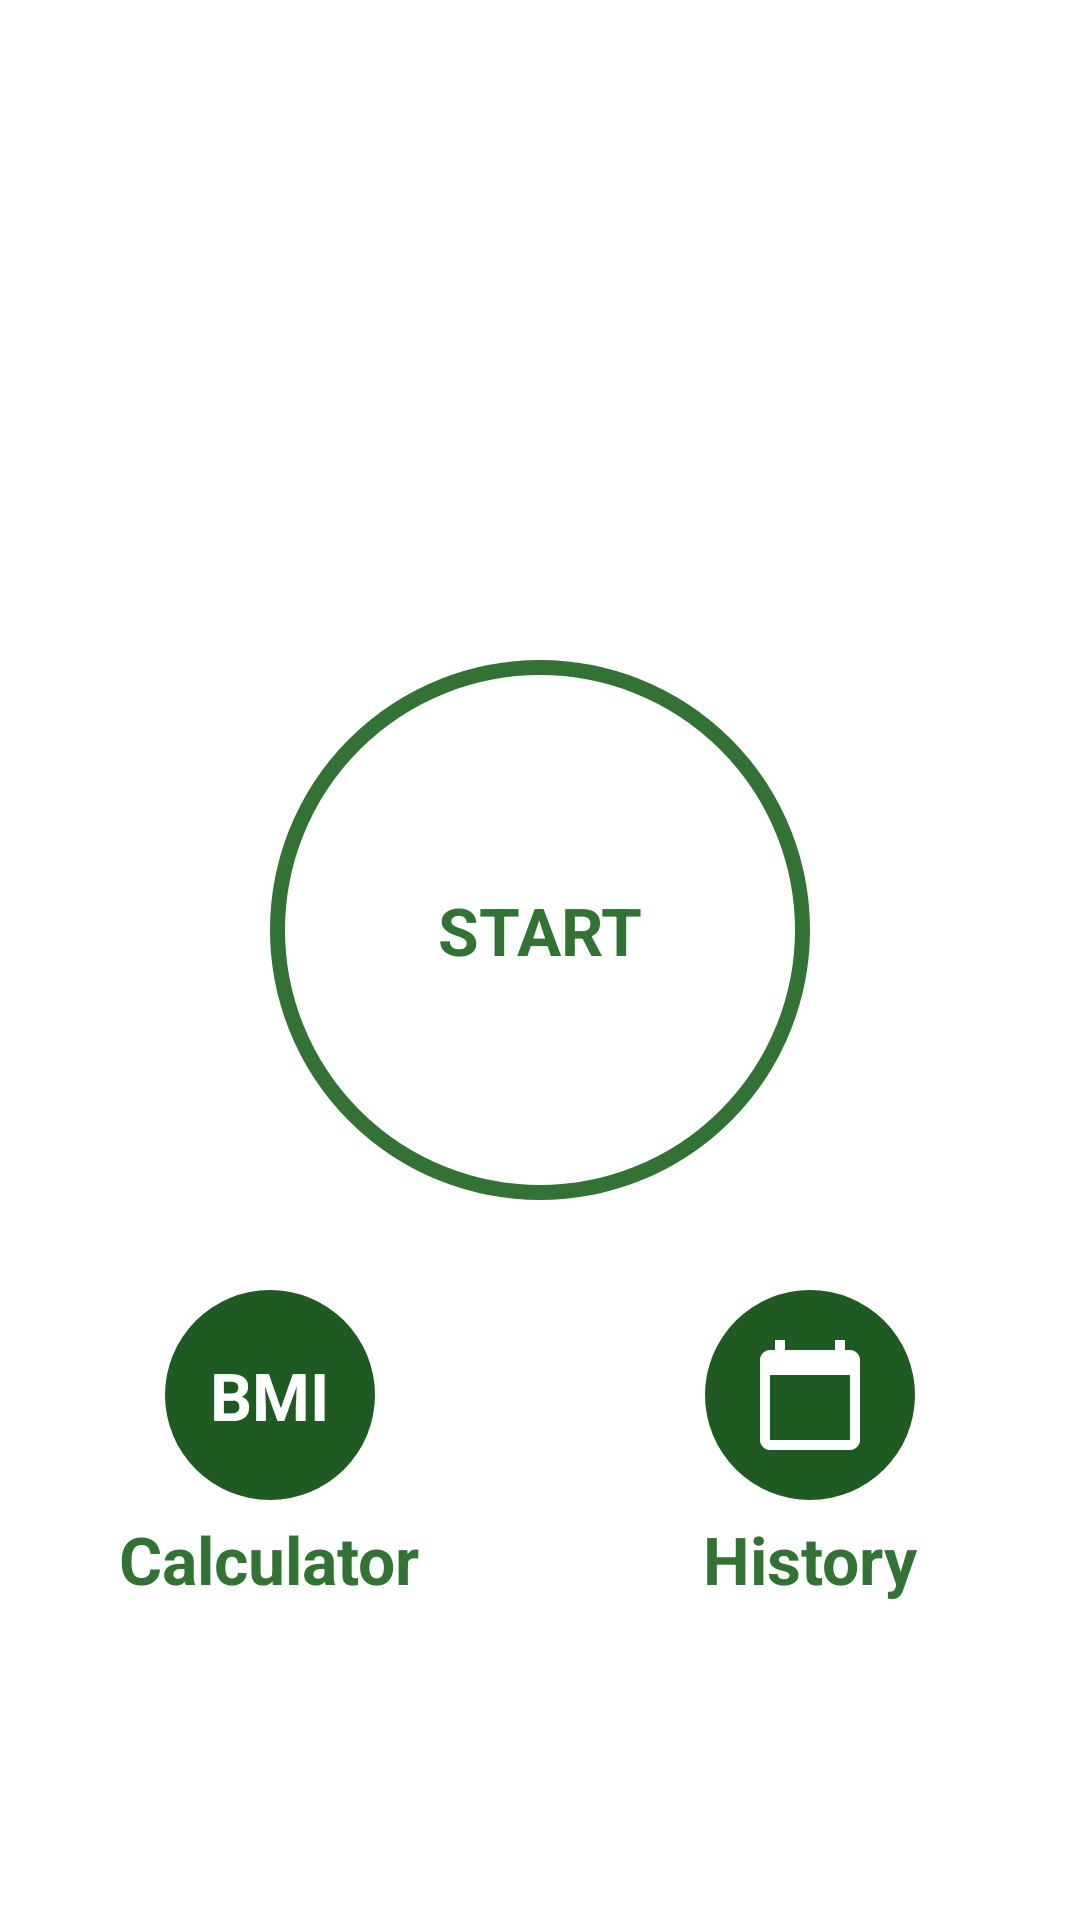

Icons on this 1080×1920 Android screen, each with the point to tap as (x=x, y=y):
calendar: (x=810, y=1395)
